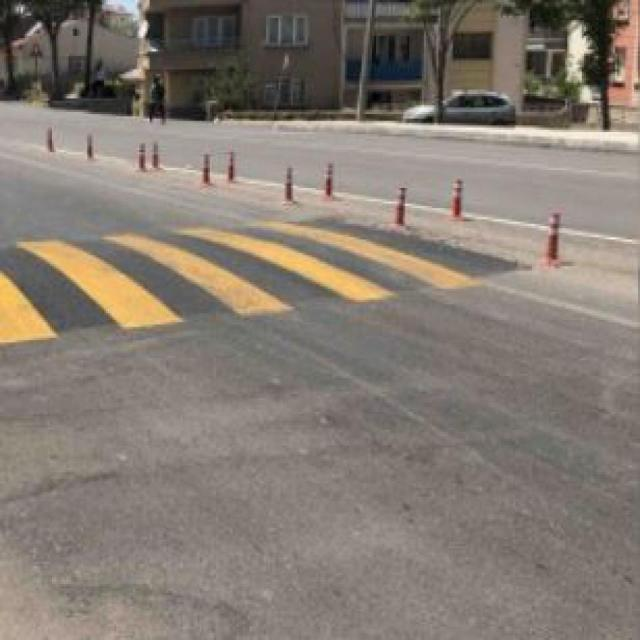speedbreaker: (1, 214, 390, 354)
